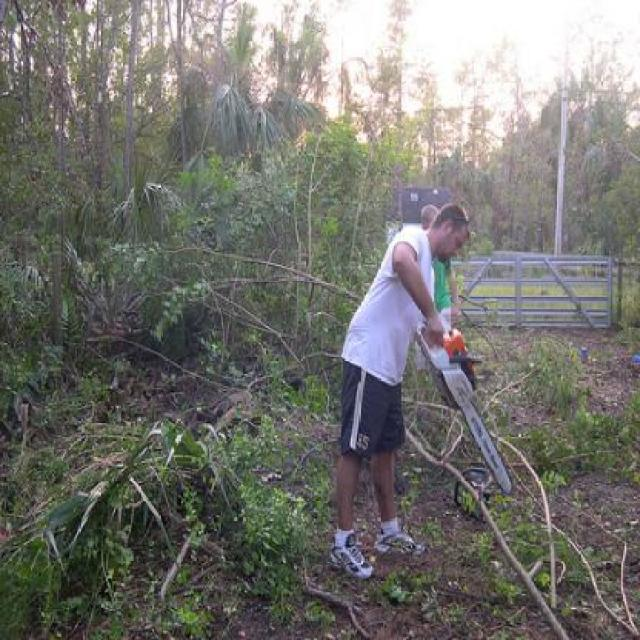Chainsaw: (412, 320, 514, 498)
